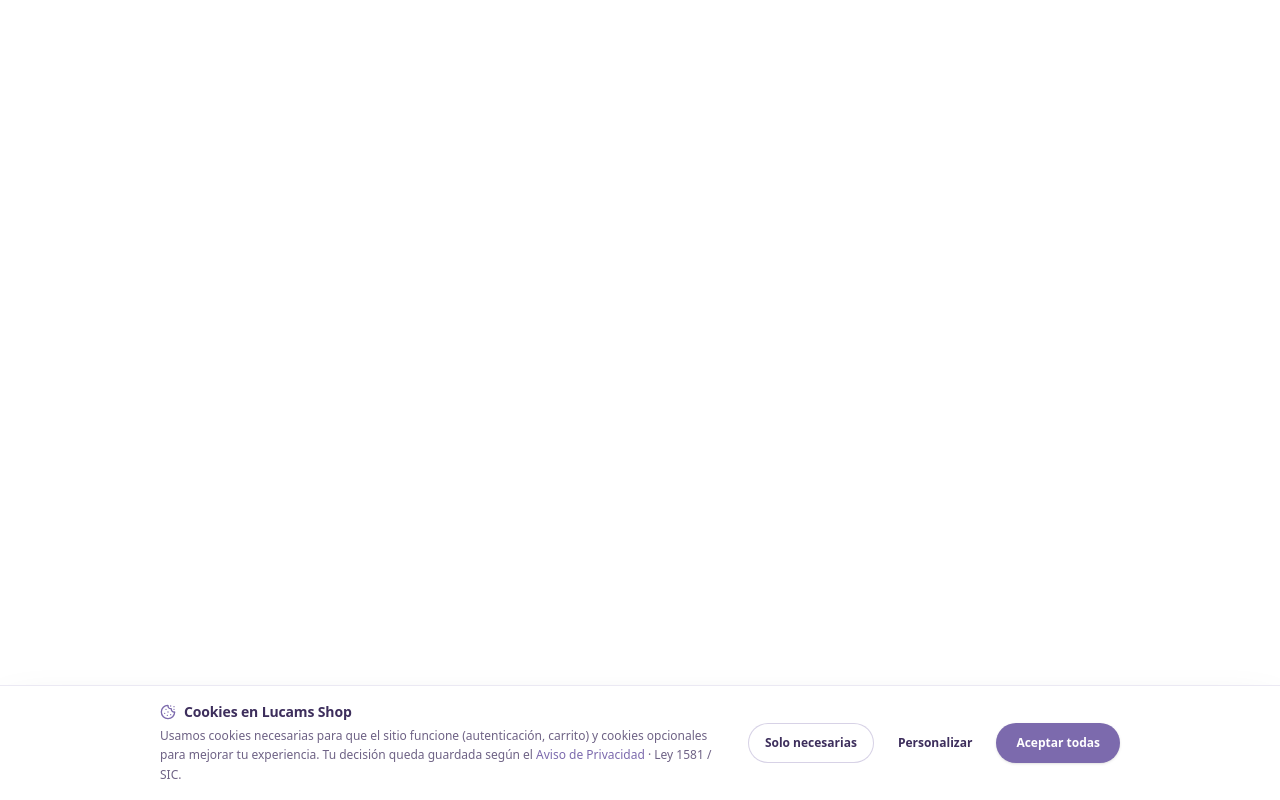
Test: CookiesBanner › 'Personalizar' abre el modal con las 4 categorías; 'necesarias' locked
Click the button "Personalizar" at point(935, 743), box [882,723,988,763]
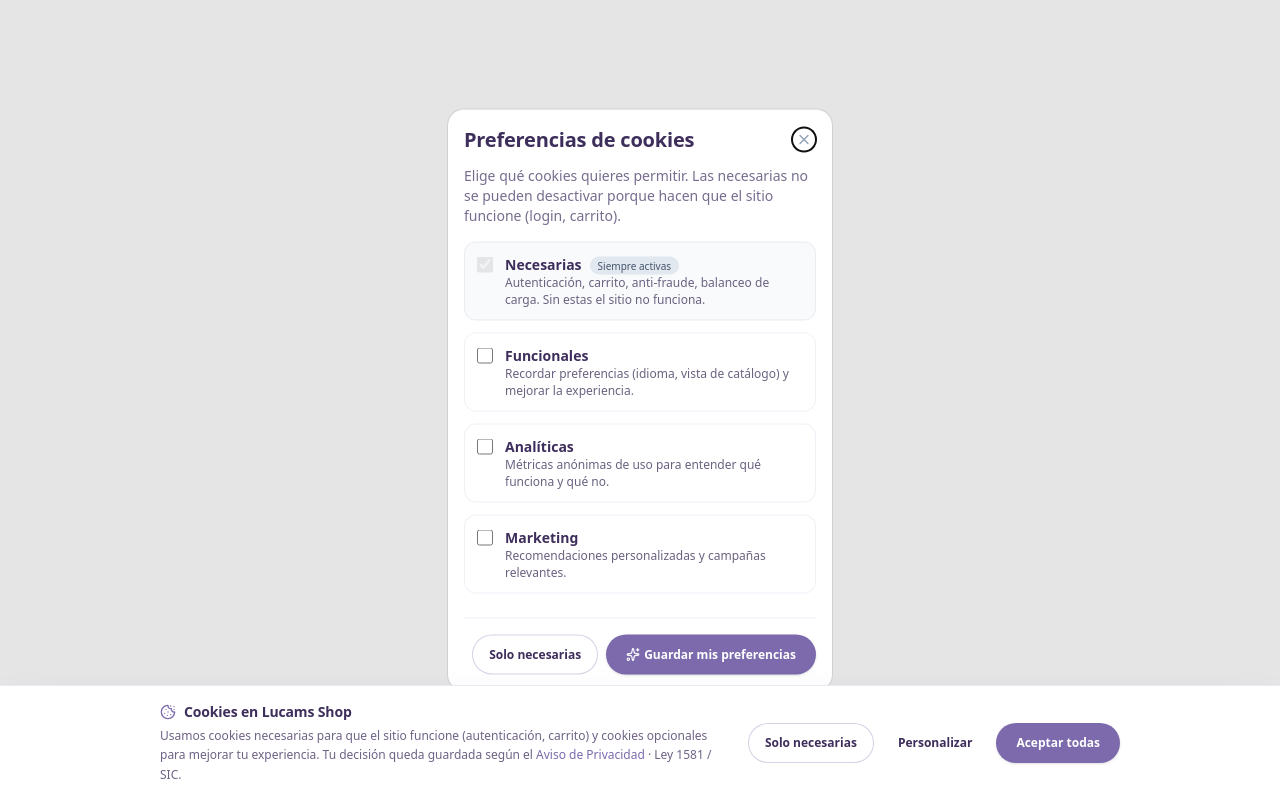
Check: the heading "Preferencias de cookies" is shown, box [464,126,694,154]
Check: the text "Siempre activas" is shown, box [590,256,679,274]
Check: the checkbox labelled "Funcionales" is not checked, box [477,348,493,364]
